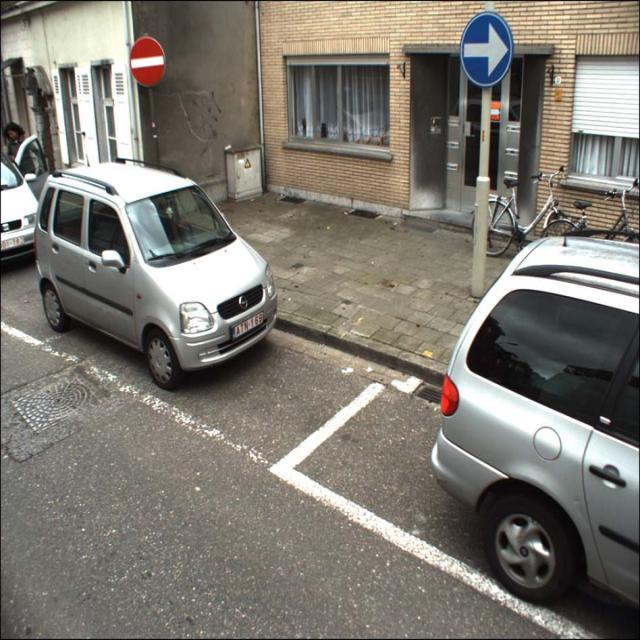girisyok: (130, 37, 166, 87)
sag: (459, 11, 512, 84)
